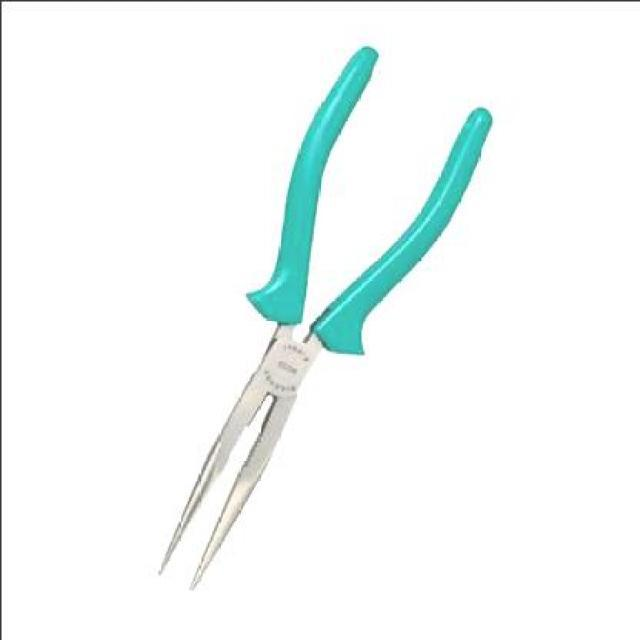pliers: (150, 47, 492, 601)
